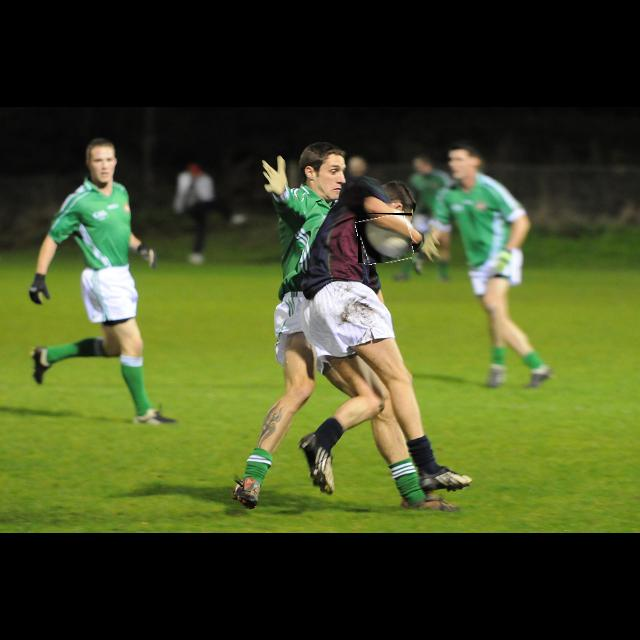Football: (358, 213, 412, 263)
